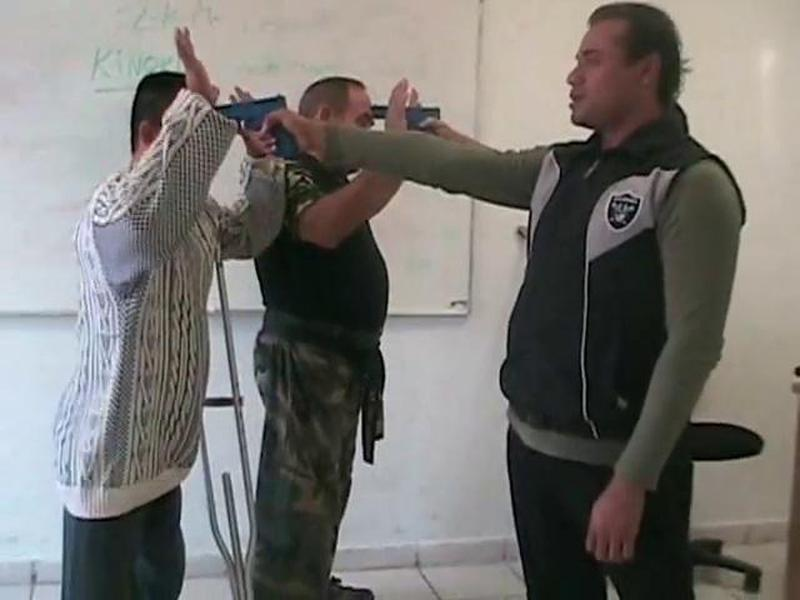Pistola: (206, 84, 300, 162)
